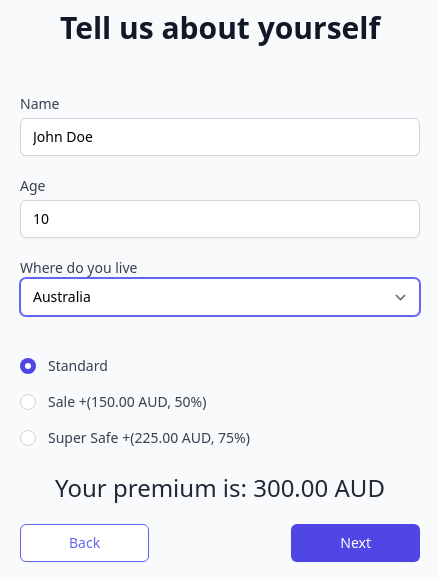
Start Page Spec › Complete form inputs › AU premium should be 450 for 10yrs old - sale
Click the radio button labelled "Sale +(150.00 AUD, 50%)".
click(28, 402)  # box [20, 394, 36, 410]
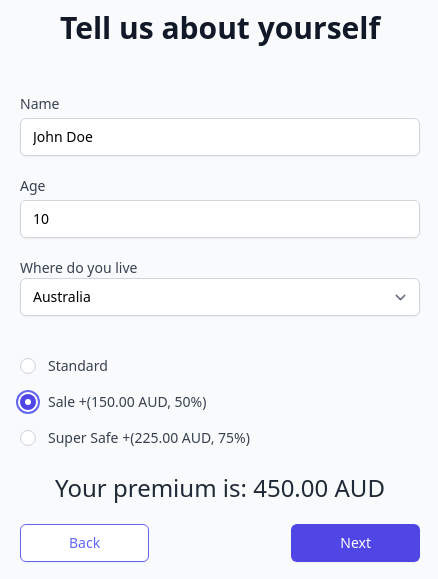
Expected: the heading "Your premium is: 450.00 AUD" is shown, [55, 471, 385, 504]
